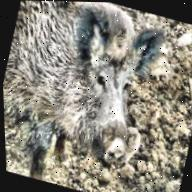boar: (0, 0, 186, 184)
